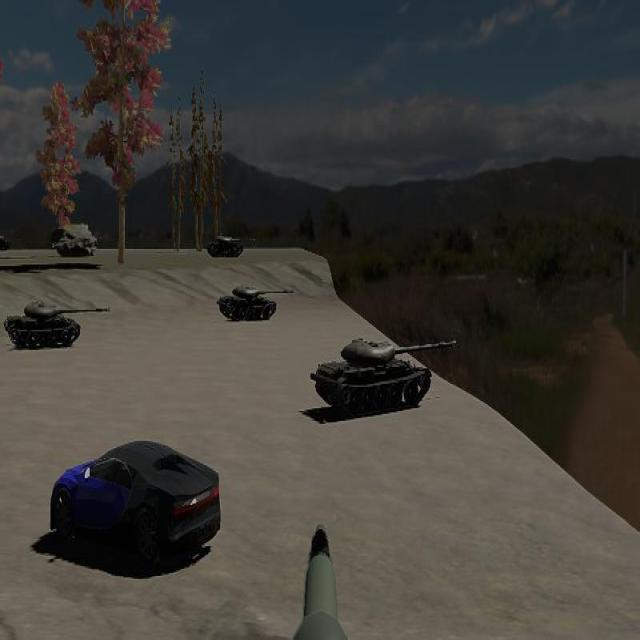Tank: (309, 337, 457, 416), (3, 300, 111, 350), (217, 285, 294, 322), (204, 233, 256, 259), (205, 233, 256, 259)
car: (49, 439, 222, 568)
